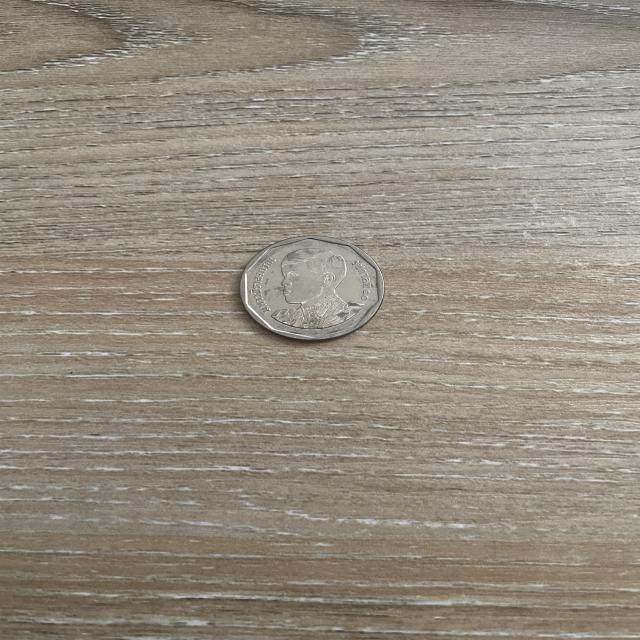5 Bath: (226, 230, 400, 350)
